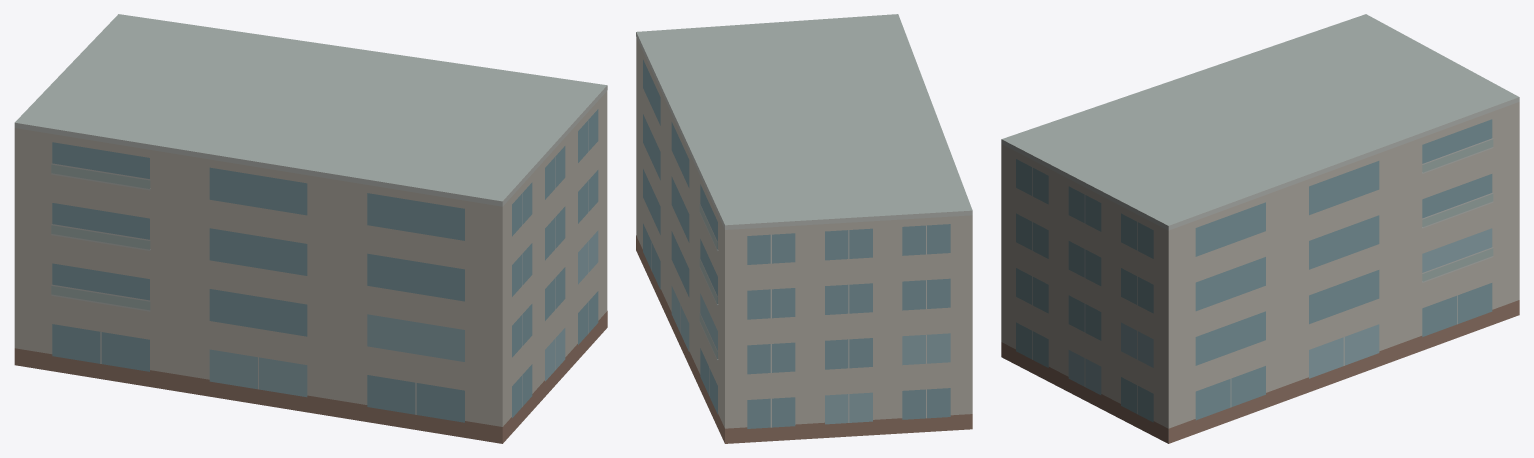
The model's file is survey-upis-32834869.glb.
The picture shows the model from 3 angles, left to right: view 1: azimuth 30°, elevation 25°; view 2: azimuth 150°, elevation 25°; view 3: azimuth 270°, elevation 25°; orthographic projection. The views are drawn at different scales.
Visible parts, largest first — view 1: survey-upis-32834869.tmp; view 2: survey-upis-32834869.tmp; view 3: survey-upis-32834869.tmp.
Part boxes in pixels (left/top/right/bottom): survey-upis-32834869.tmp: left=14, top=14, right=607, bottom=443; survey-upis-32834869.tmp: left=636, top=14, right=972, bottom=443; survey-upis-32834869.tmp: left=1001, top=14, right=1519, bottom=443.
Size of the model in its own units: 23.57 by 11.3 by 24.34.
